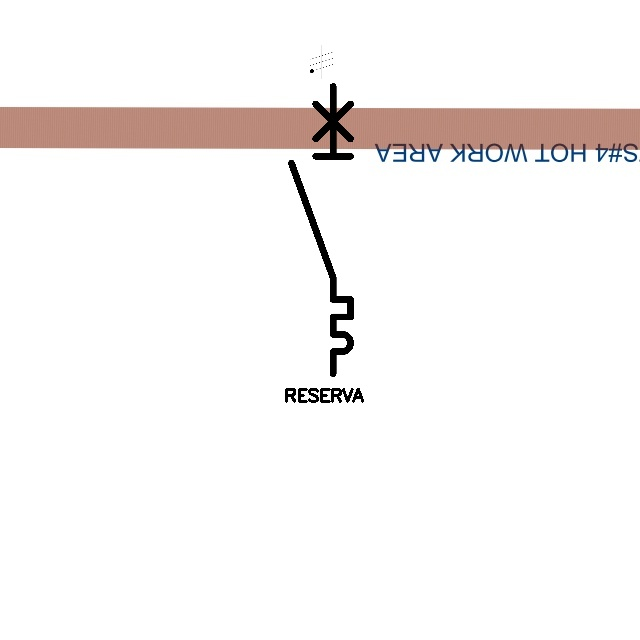interruptor_termomagnetico: (284, 79, 358, 381)
